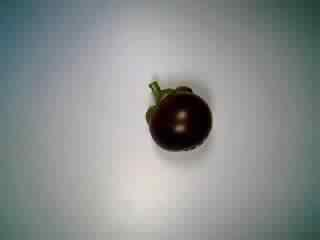mangosteen: (136, 79, 220, 160)
